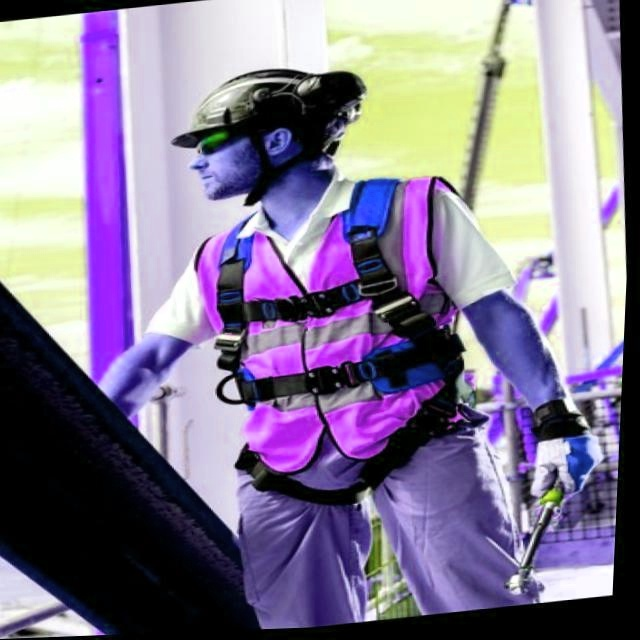safety belt: (182, 226, 481, 473)
